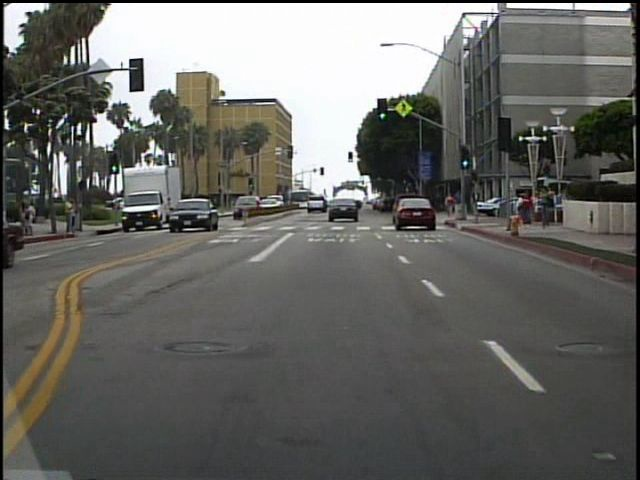person: (65, 193, 79, 238), (441, 193, 457, 219)
